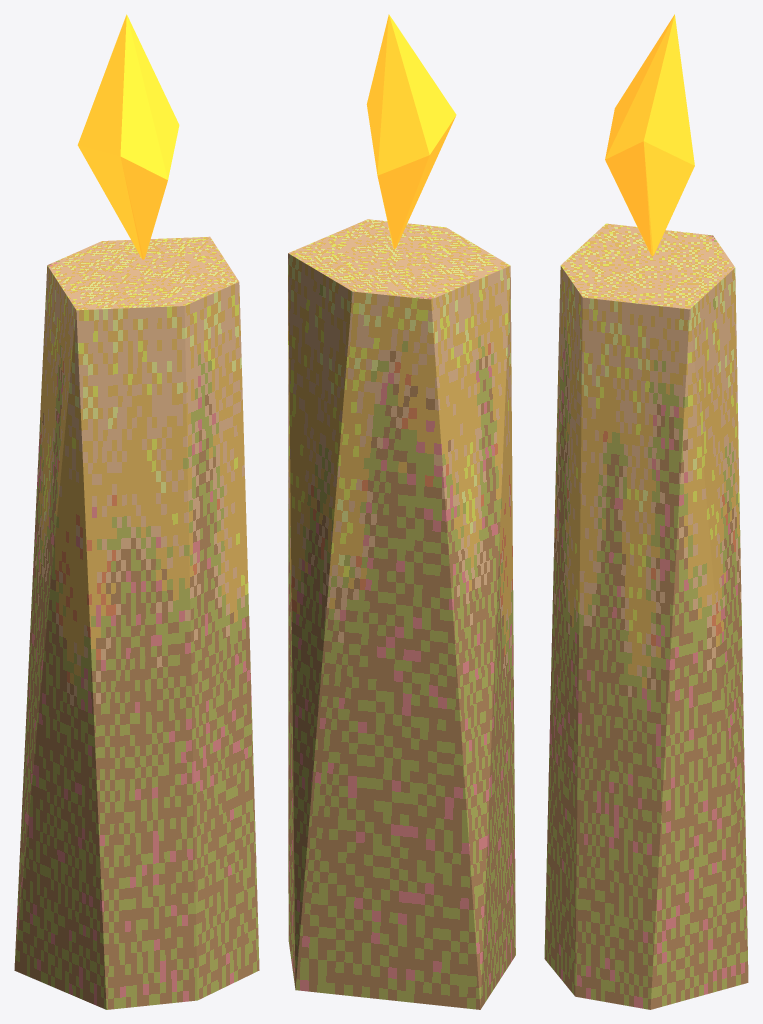
Rendered from longcandle.glb.
The picture shows the model from 3 angles, left to right: view 1: azimuth 30°, elevation 25°; view 2: azimuth 150°, elevation 25°; view 3: azimuth 270°, elevation 25°; orthographic projection. The views are drawn at different scales.
Visible parts, largest first — view 1: candle2, flame2; view 2: candle2, flame2; view 3: candle2, flame2.
Part boxes in pixels (x1=…): candle2: x1=14, y1=14, x2=259, y2=1009; flame2: x1=77, y1=15, x2=179, y2=259; candle2: x1=288, y1=219, x2=515, y2=1009; flame2: x1=366, y1=14, x2=456, y2=248; candle2: x1=544, y1=16, x2=748, y2=1009; flame2: x1=605, y1=14, x2=694, y2=255.
Bounding box in the file's own units: 0.5411 × 2.3 × 0.452.
2 materials, 1 textured.
